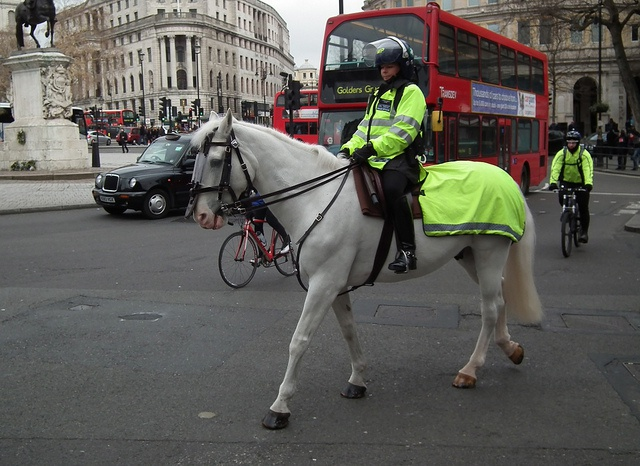non-vehicle: (217, 203, 296, 289), (549, 186, 587, 256)
